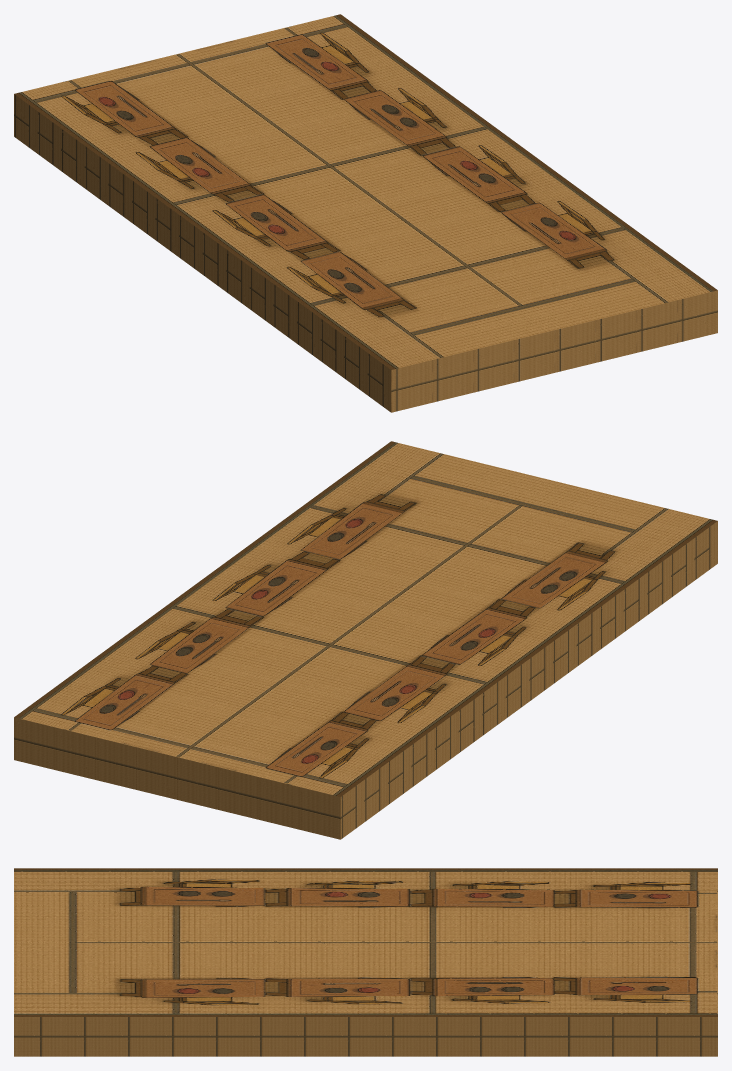
Rendered from 宴会場.fbx.
The picture shows the model from 3 angles, top to bottom: view 1: azimuth 30°, elevation 25°; view 2: azimuth 150°, elevation 25°; view 3: azimuth 270°, elevation 25°; orthographic projection. The views are drawn at different scales.
Parts seen in each view (by area): view 1: Cube.049, Cube.017, Cube.018, Cube.054, Cube.050, Cube.021, Cube.022, Cube.053, Cube.043, Cube.065, Cube.035, Cube.041 (+116 smaller); view 2: Cube.075, Cube.107, Cube.080, Cube.108, Cube.076, Cube.111, Cube.112, Cube.079, Cube.081, Cube.059, Cube.089, Cube.033 (+116 smaller); view 3: Cube.006, Cube.008, Cube.014, Cube.016, Cube.022, Cube.024, Cube.030, Cube.032, Cube.102, Cube.104, Cube.110, Cube.112 (+116 smaller).
Boxes of the visible parts, box(x1,y1,x2,y2) form: Cube.049: box(367, 343, 431, 412); Cube.017: box(531, 303, 595, 372); Cube.018: box(572, 293, 636, 362); Cube.054: box(491, 313, 554, 382); Cube.050: box(409, 333, 472, 402); Cube.021: box(613, 283, 676, 352); Cube.022: box(654, 273, 717, 342); Cube.053: box(450, 323, 513, 392); Cube.043: box(202, 222, 266, 291); Cube.065: box(84, 135, 148, 205); Cube.035: box(249, 256, 313, 325); Cube.041: box(226, 239, 290, 308); Cube.075: box(300, 770, 364, 839); Cube.107: box(136, 730, 200, 799); Cube.080: box(177, 740, 240, 809); Cube.108: box(95, 720, 159, 789); Cube.076: box(259, 760, 322, 829); Cube.111: box(55, 710, 118, 779); Cube.112: box(14, 700, 77, 769); Cube.079: box(218, 750, 281, 819); Cube.081: box(465, 649, 529, 718); Cube.059: box(583, 562, 647, 632); Cube.089: box(418, 683, 482, 752); Cube.033: box(559, 580, 623, 649); Cube.006: box(190, 998, 233, 1056); Cube.008: box(234, 998, 277, 1056); Cube.014: box(278, 998, 321, 1056); Cube.016: box(322, 998, 365, 1056); Cube.022: box(14, 998, 57, 1056); Cube.024: box(58, 998, 101, 1056); Cube.030: box(102, 998, 145, 1056); Cube.032: box(146, 998, 189, 1056); Cube.102: box(542, 998, 585, 1056); Cube.104: box(586, 998, 629, 1056); Cube.110: box(630, 998, 673, 1056); Cube.112: box(674, 998, 717, 1056).
Size of the model in its own units: 8 by 1 by 16.
Materials: 1 (1 with a texture image).
